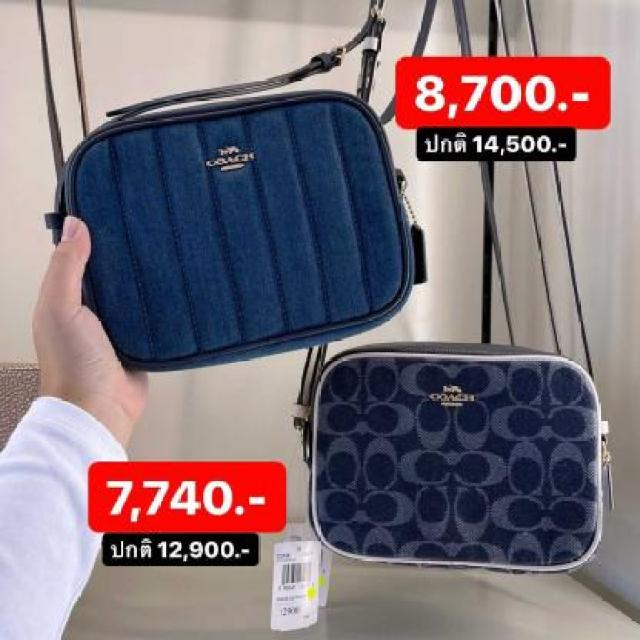Bag: (1, 40, 453, 377), (291, 326, 640, 585)
